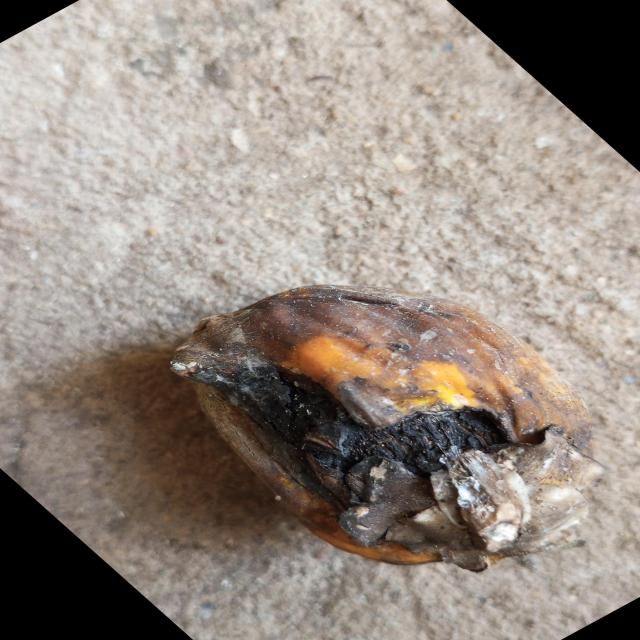damaged: (168, 285, 593, 575)
